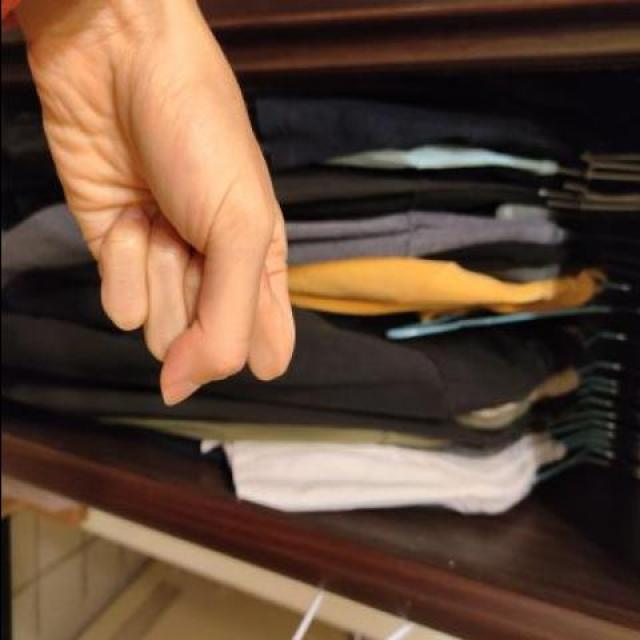Closed Hand: (13, 1, 296, 407)
